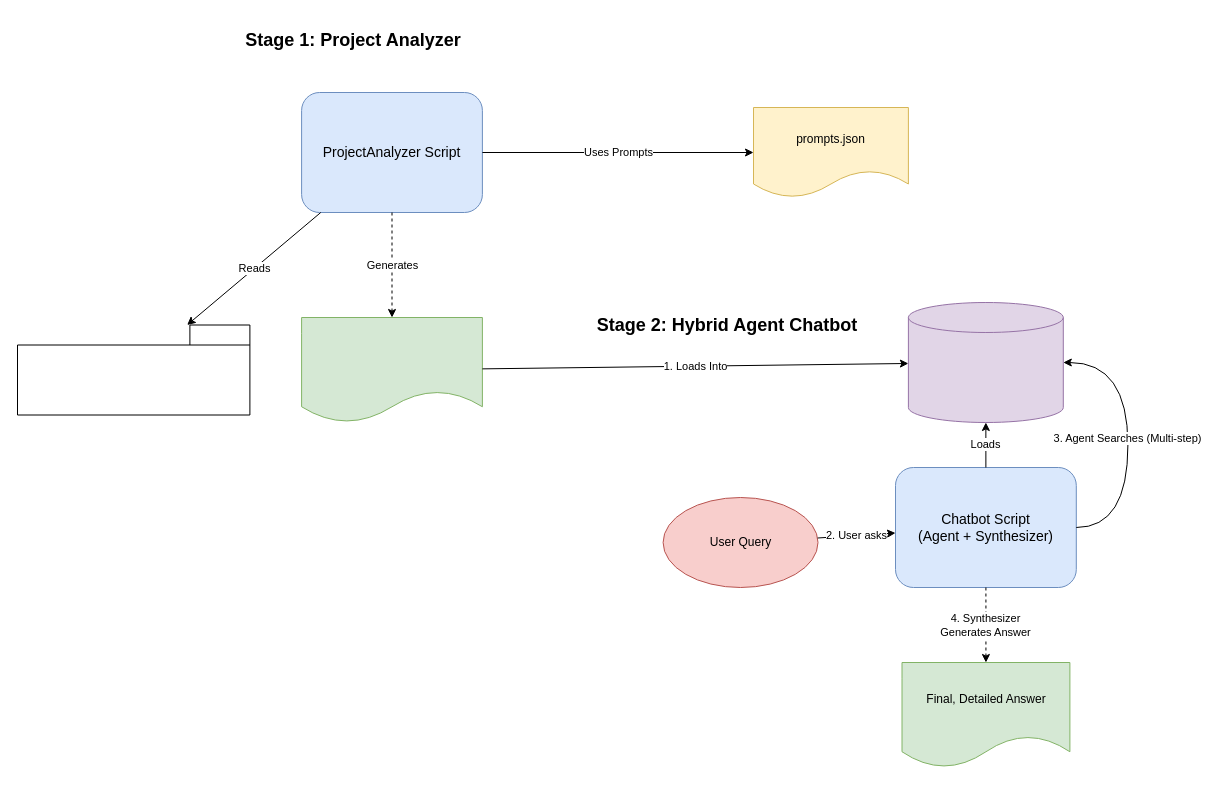
The diagram is 1219 pixels wide and 799 high, and some of its shapes have lost their labels. The centre of each missing label's shape, as x and y in pixels:
"ChromaDB Vector Store" goes at [985,362].
"rag_documents.txt (Knowledge Base)" goes at [391,369].
"Software Project (e.g., Python Codebase)" goes at [133,369].
